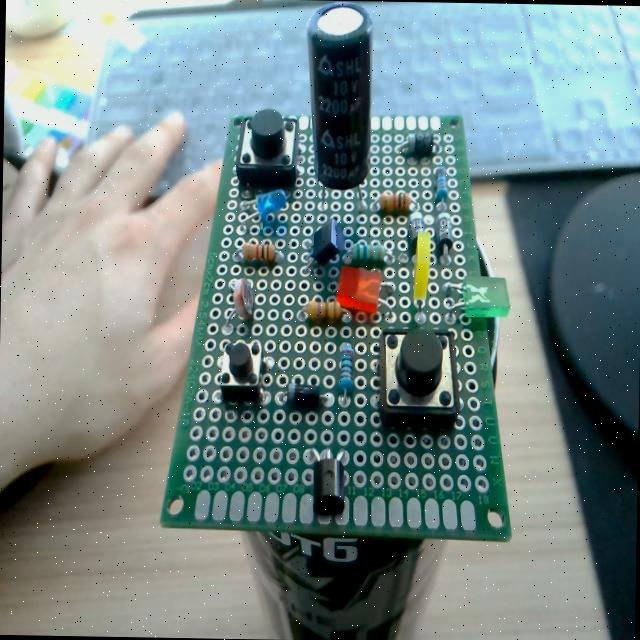Electrolytic capacitor: (303, 0, 386, 203)
cds: (221, 281, 257, 326)
diode: (282, 381, 324, 407), (400, 130, 439, 156), (436, 209, 455, 258), (409, 209, 424, 247)
led: (334, 260, 401, 319), (444, 270, 507, 332), (408, 236, 438, 318), (231, 190, 286, 225)
resistor: (238, 238, 280, 270), (332, 340, 356, 390), (305, 296, 346, 324)
switch: (373, 318, 467, 428), (236, 107, 304, 186)
transistor: (303, 445, 352, 514), (307, 225, 342, 278)
